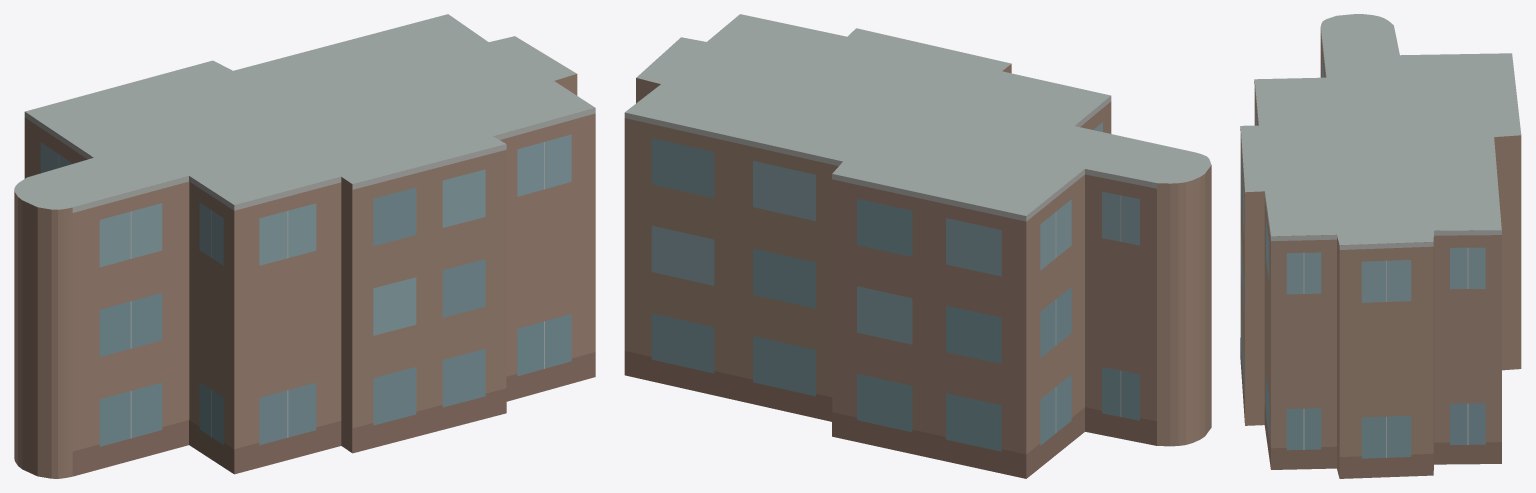
Rendered from survey-upis-32468882.glb.
The picture shows the model from 3 angles, left to right: view 1: azimuth 30°, elevation 25°; view 2: azimuth 150°, elevation 25°; view 3: azimuth 270°, elevation 25°; orthographic projection. The views are drawn at different scales.
Visible parts, largest first — view 1: survey-upis-32468882.tmp; view 2: survey-upis-32468882.tmp; view 3: survey-upis-32468882.tmp.
Boxes of the visible parts, bbox=[...] form: survey-upis-32468882.tmp: bbox=[14, 14, 595, 478]; survey-upis-32468882.tmp: bbox=[624, 14, 1211, 478]; survey-upis-32468882.tmp: bbox=[1240, 14, 1521, 478].
Bounding box in the file's own units: 24.62 × 11.6 × 12.64.
